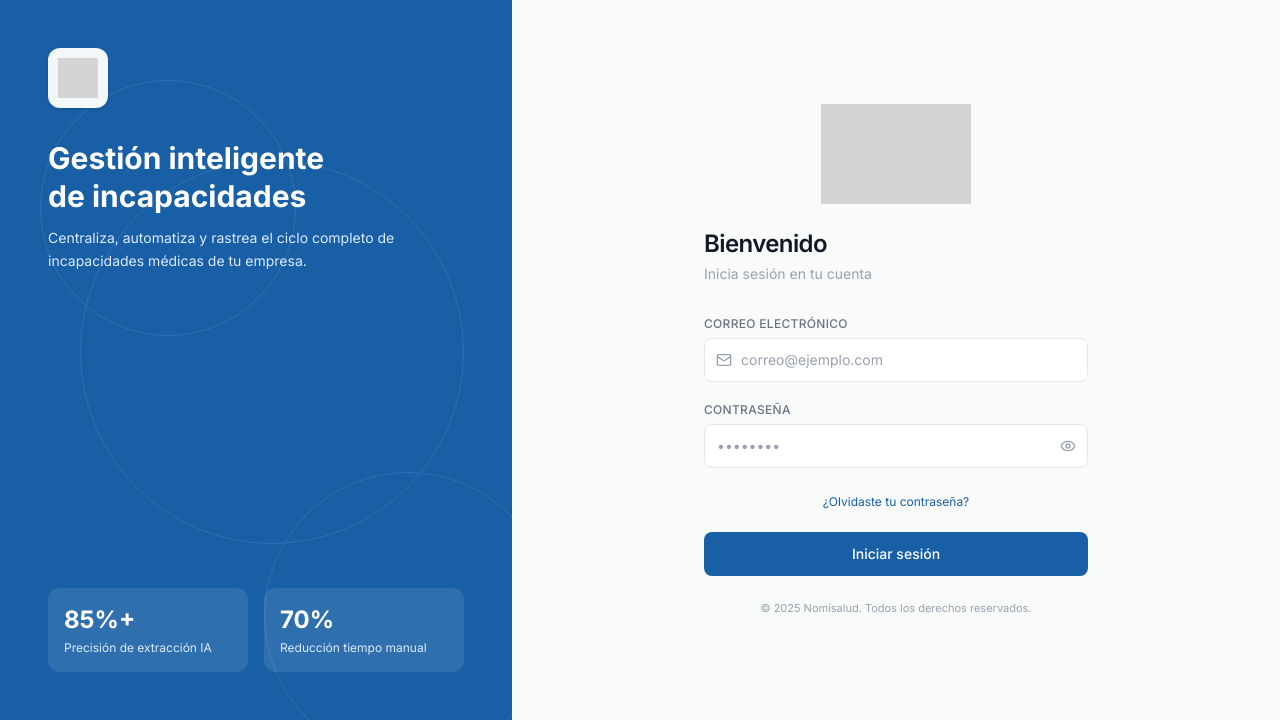
Test: LoginForm › credenciales correctas → estado éxito › muestra la alerta de éxito
Type "admin@nomisalud.com" into the field labelled "Correo electrónico" at (896, 360), box [704, 338, 1088, 382]
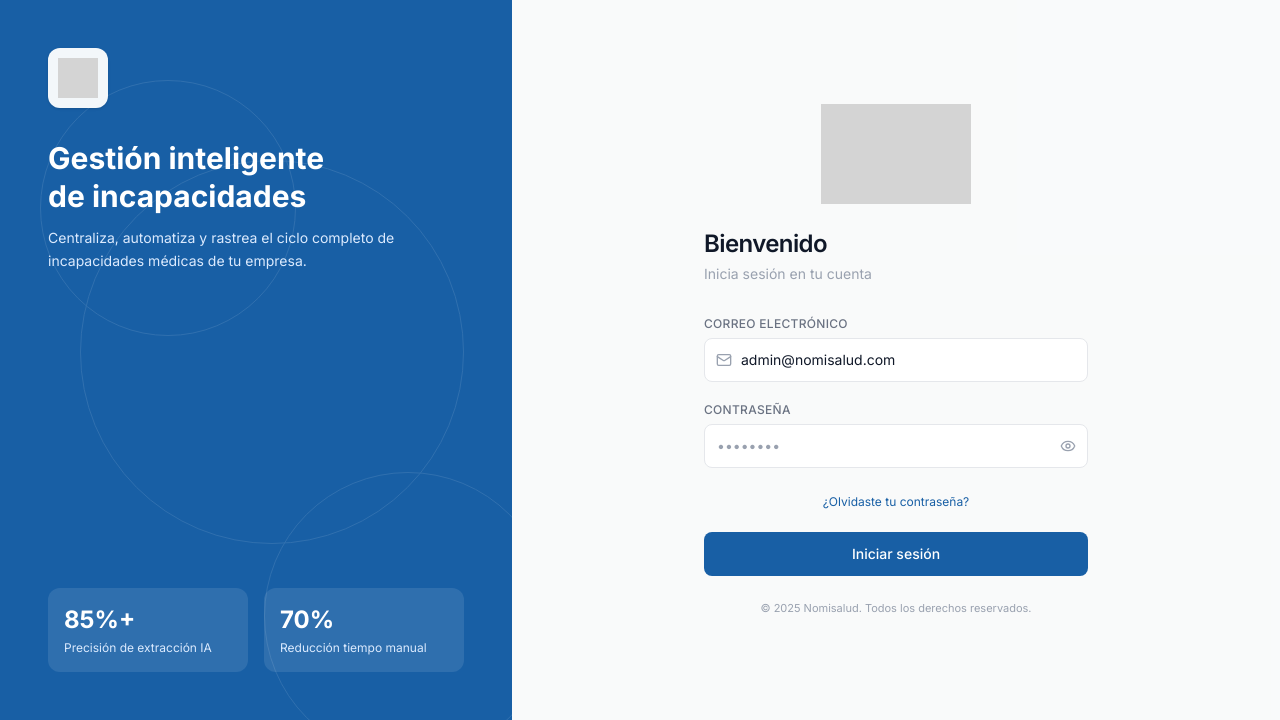
Type "Admin1234" into the password field labelled "Contraseña" at (896, 446), box [704, 424, 1088, 468]
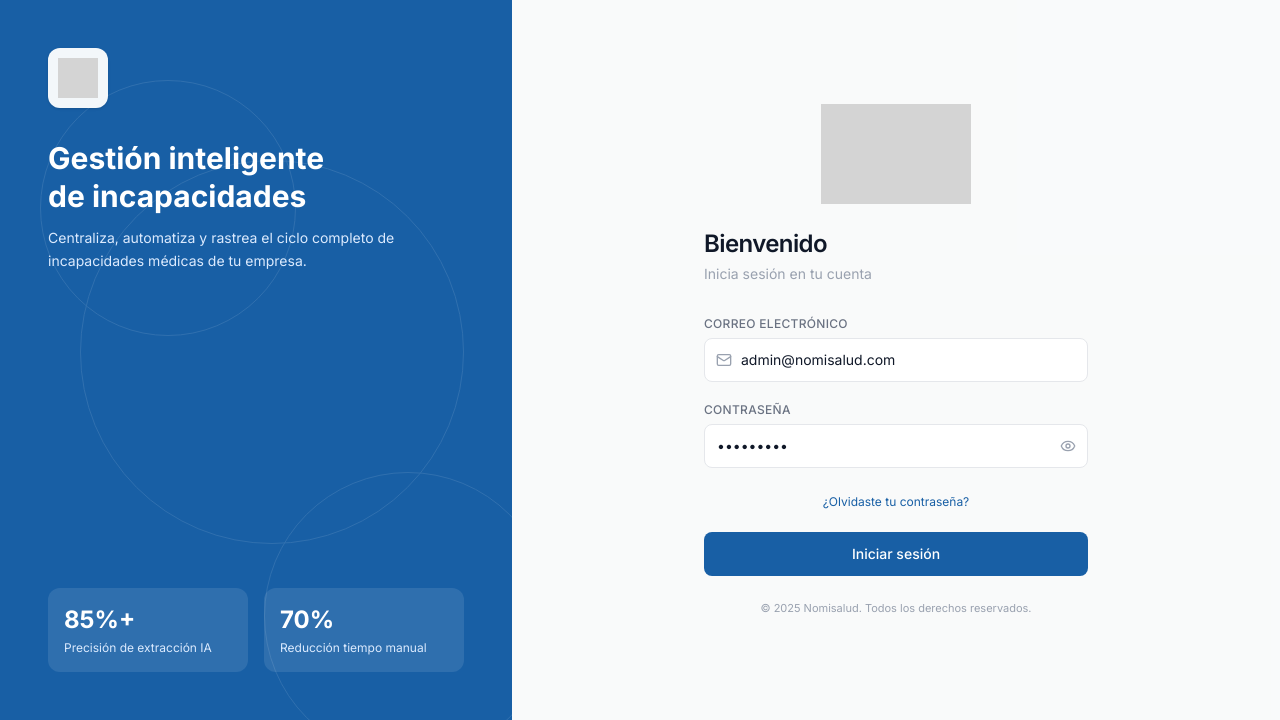
Click the button "Iniciar sesión" at (896, 554), box [704, 532, 1088, 576]
Wait 800 ms
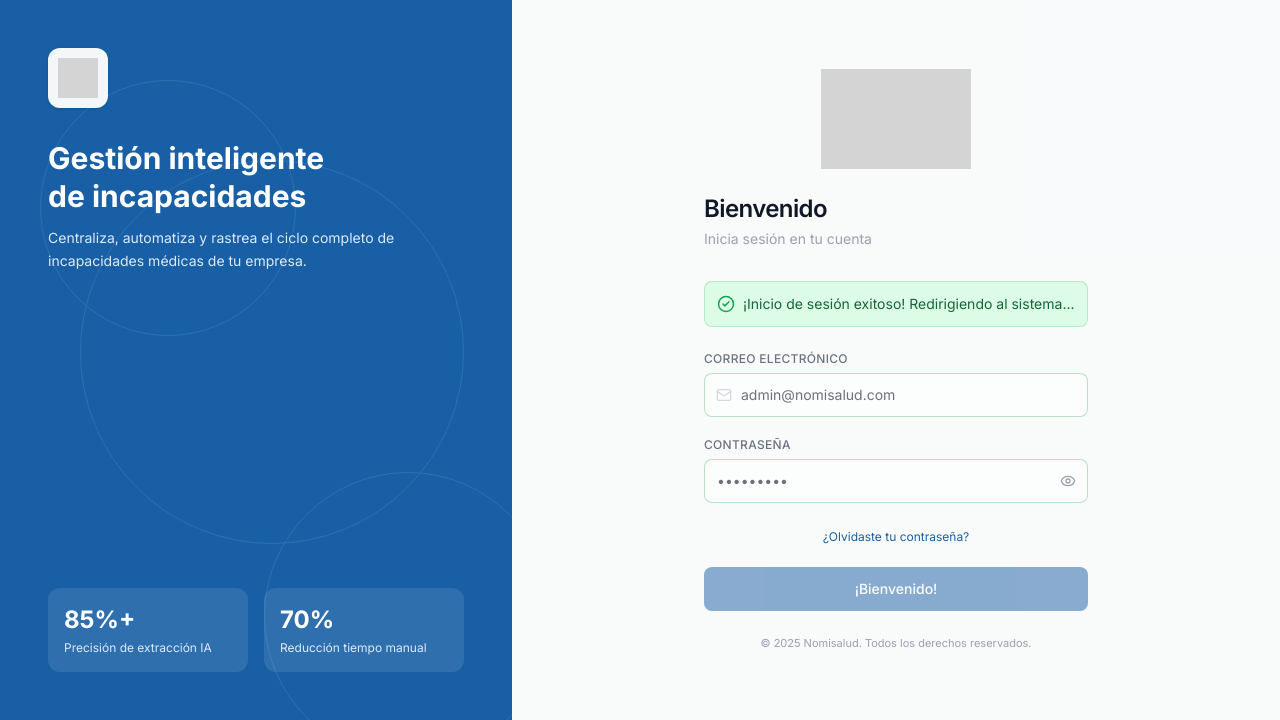
Result: the text "¡Inicio de sesión exitoso! Redirigiendo al sistema..." is shown at [743, 294, 1074, 314]
